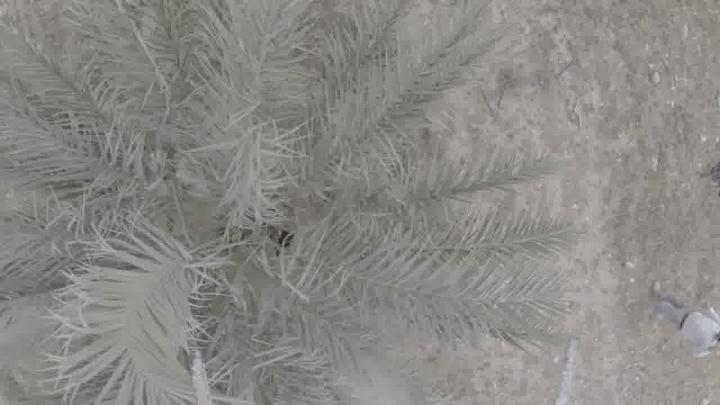Date-Palm-Crown: (36, 0, 445, 404)
